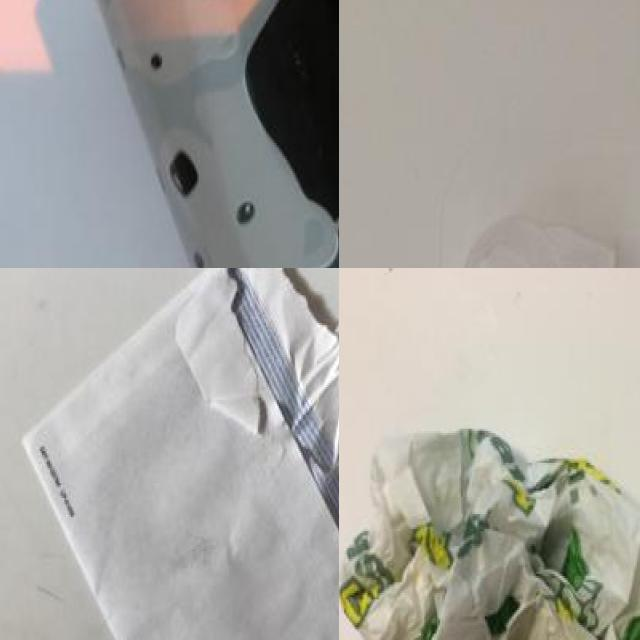paper: (30, 268, 339, 640)
plastic: (92, 0, 339, 268), (444, 129, 640, 268)
trash: (339, 395, 640, 640)
